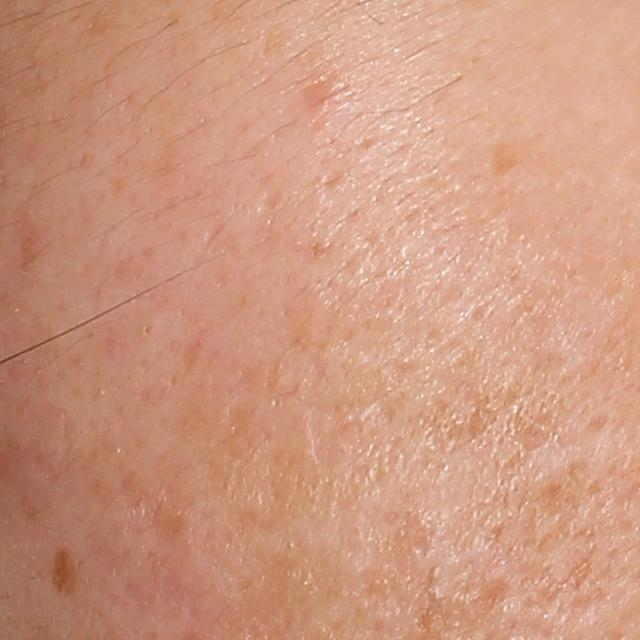comedo: (140, 321, 154, 337)
melasma: (488, 136, 532, 175), (50, 548, 81, 593)
